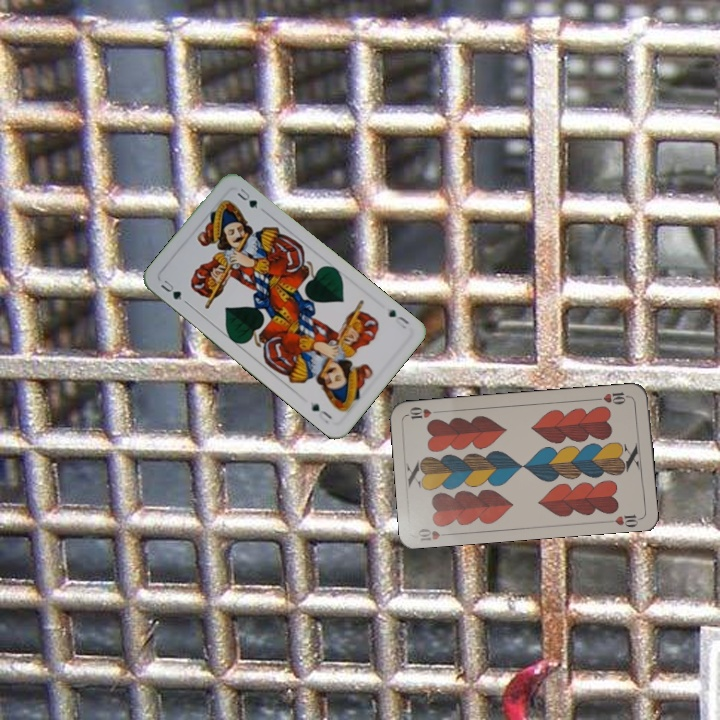GU: (156, 276, 190, 306), (384, 305, 412, 327)
H10: (414, 524, 454, 544), (592, 388, 633, 407)
